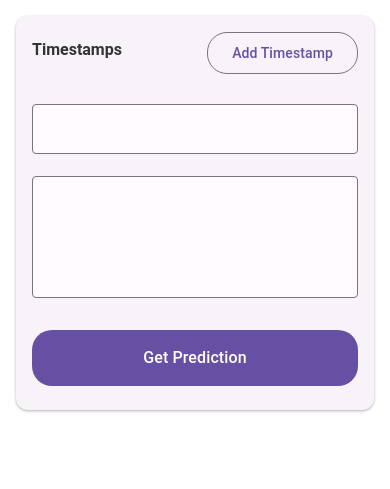
Test: PredictionForm › shows validation errors for empty fields
Step 1. Click the button "Get Prediction" → x=195, y=358, box x1=32 y1=338 x2=358 y2=378
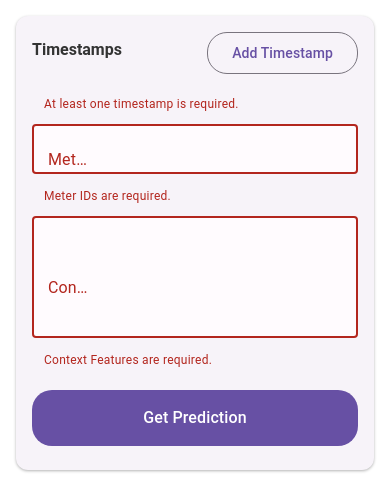
Result: the text "At least one timestamp is required." is shown at x1=44 y1=97 x2=239 y2=111
Result: the text "Meter IDs are required." is shown at x1=44 y1=189 x2=171 y2=203
Result: the text "Context Features are required." is shown at x1=44 y1=353 x2=212 y2=367
